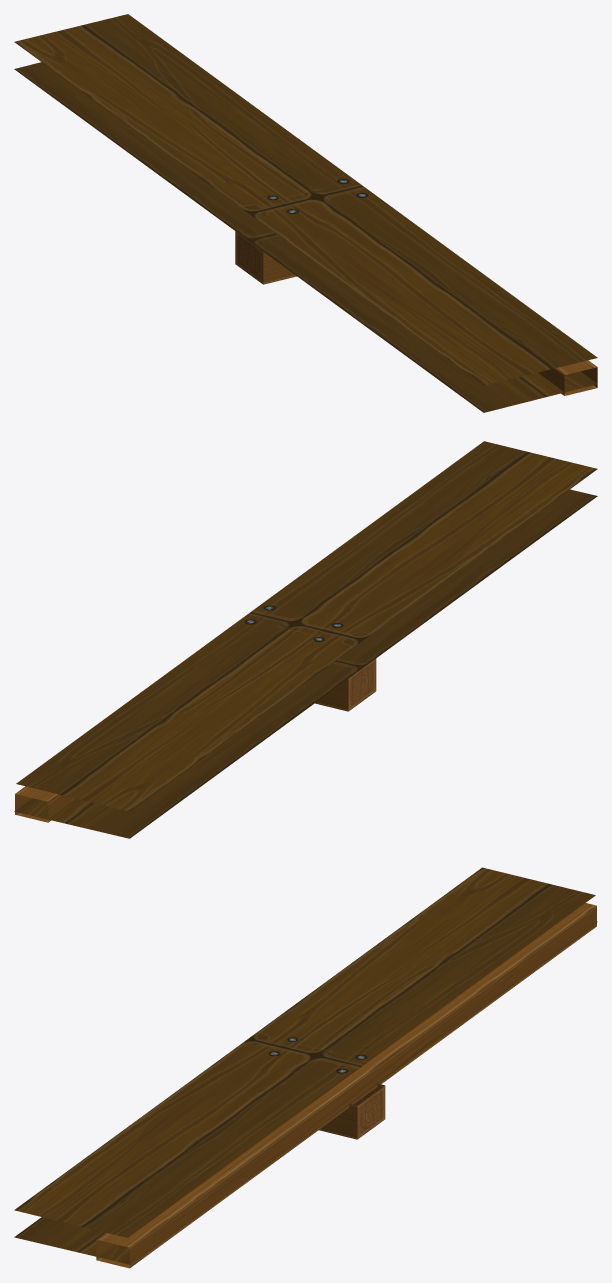
File: SM_House_Floor_Overhang_Right.fbx
3 views of the same model, one above another, from view 1: azimuth 30°, elevation 25°; view 2: azimuth 150°, elevation 25°; view 3: azimuth 330°, elevation 25° (orthographic).
Visible parts, largest first — view 1: SM_House_Floor_Overhang_Right; view 2: SM_House_Floor_Overhang_Right; view 3: SM_House_Floor_Overhang_Right.
Boxes of the visible parts, bbox=[...] form: SM_House_Floor_Overhang_Right: bbox=[14, 14, 597, 412]; SM_House_Floor_Overhang_Right: bbox=[14, 441, 597, 838]; SM_House_Floor_Overhang_Right: bbox=[14, 867, 597, 1268].
Bounding box in the file's own units: 0.7565 × 0.3597 × 5.01.
